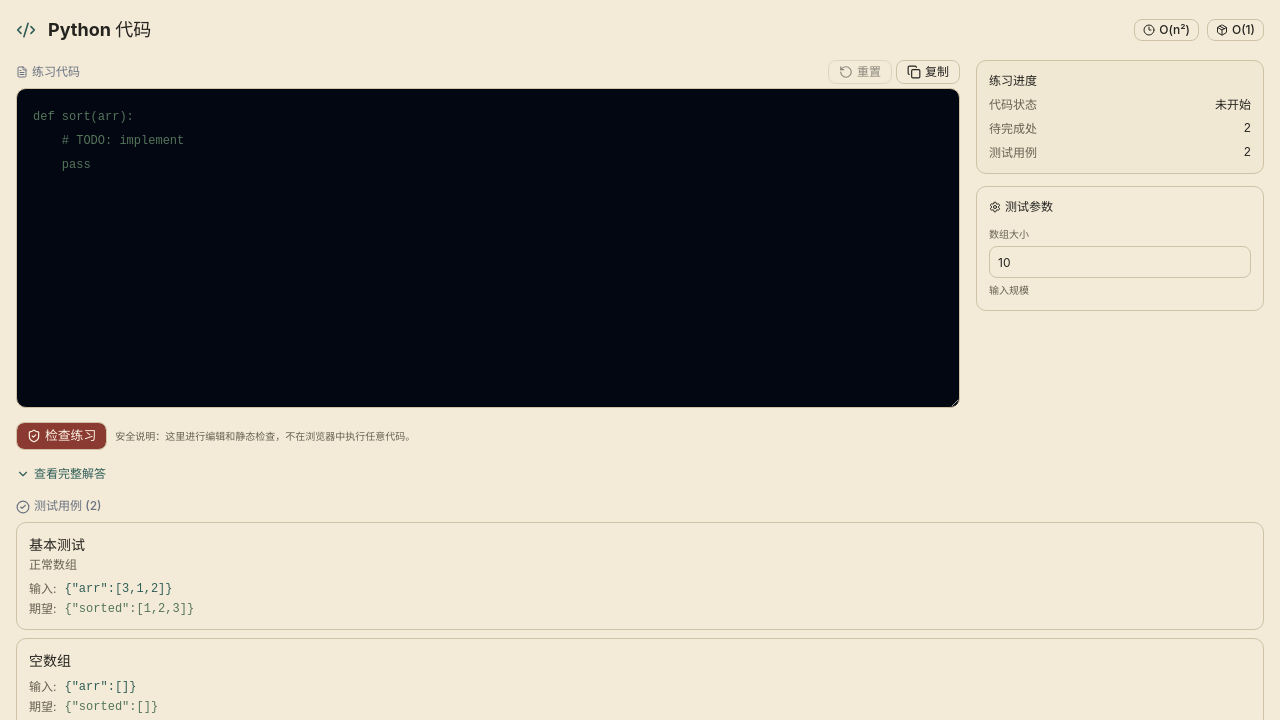
CodeSandbox › toggles solution visibility
Expected: the text "sorted(arr)" is not shown
# Click "查看完整解答" button
Click the button "查看完整解答".
click(61, 474)  # box [16,466,106,482]
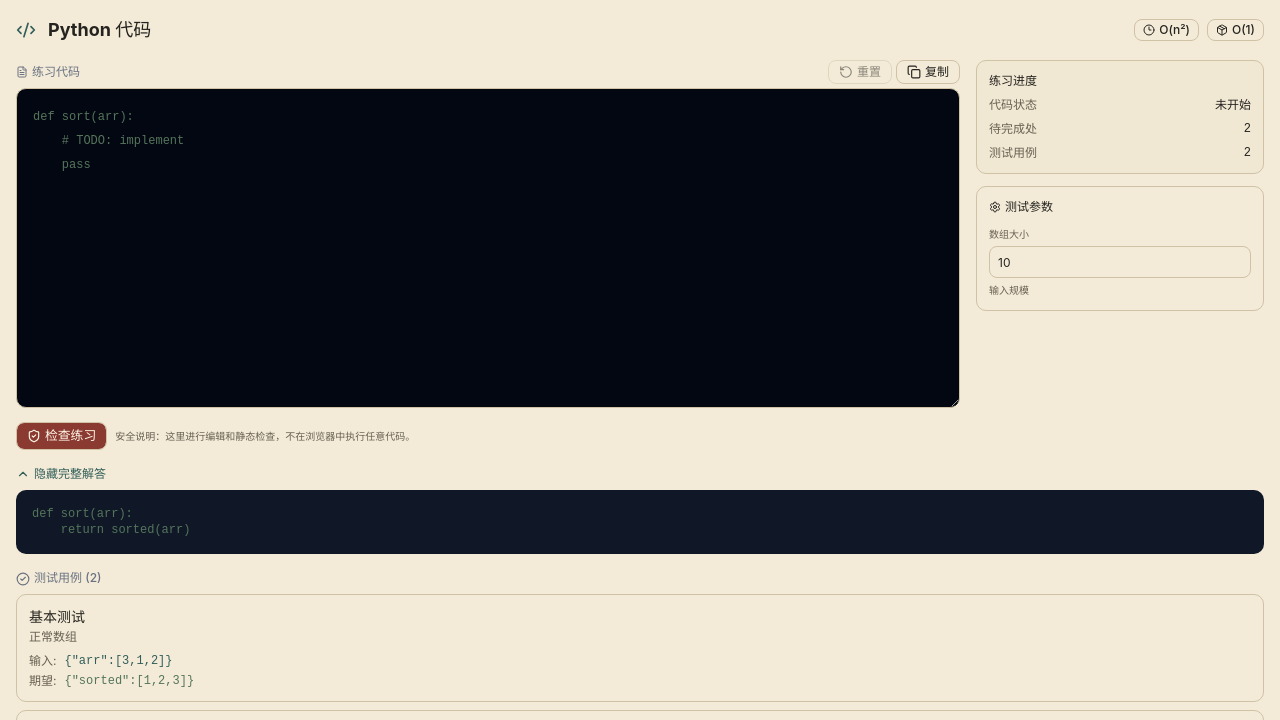
Now the text "def sort(arr): return sorted(arr)" is shown, box [32,507,190,537]
Now the button "隐藏完整解答" is shown, box [16,466,106,482]
